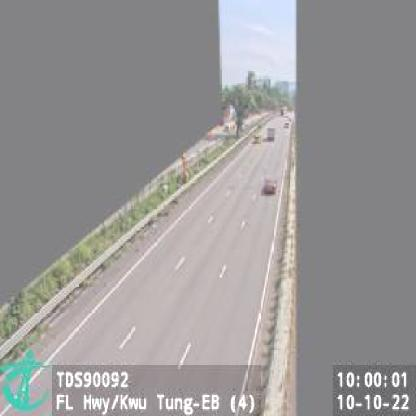Car: (262, 176, 276, 194)
